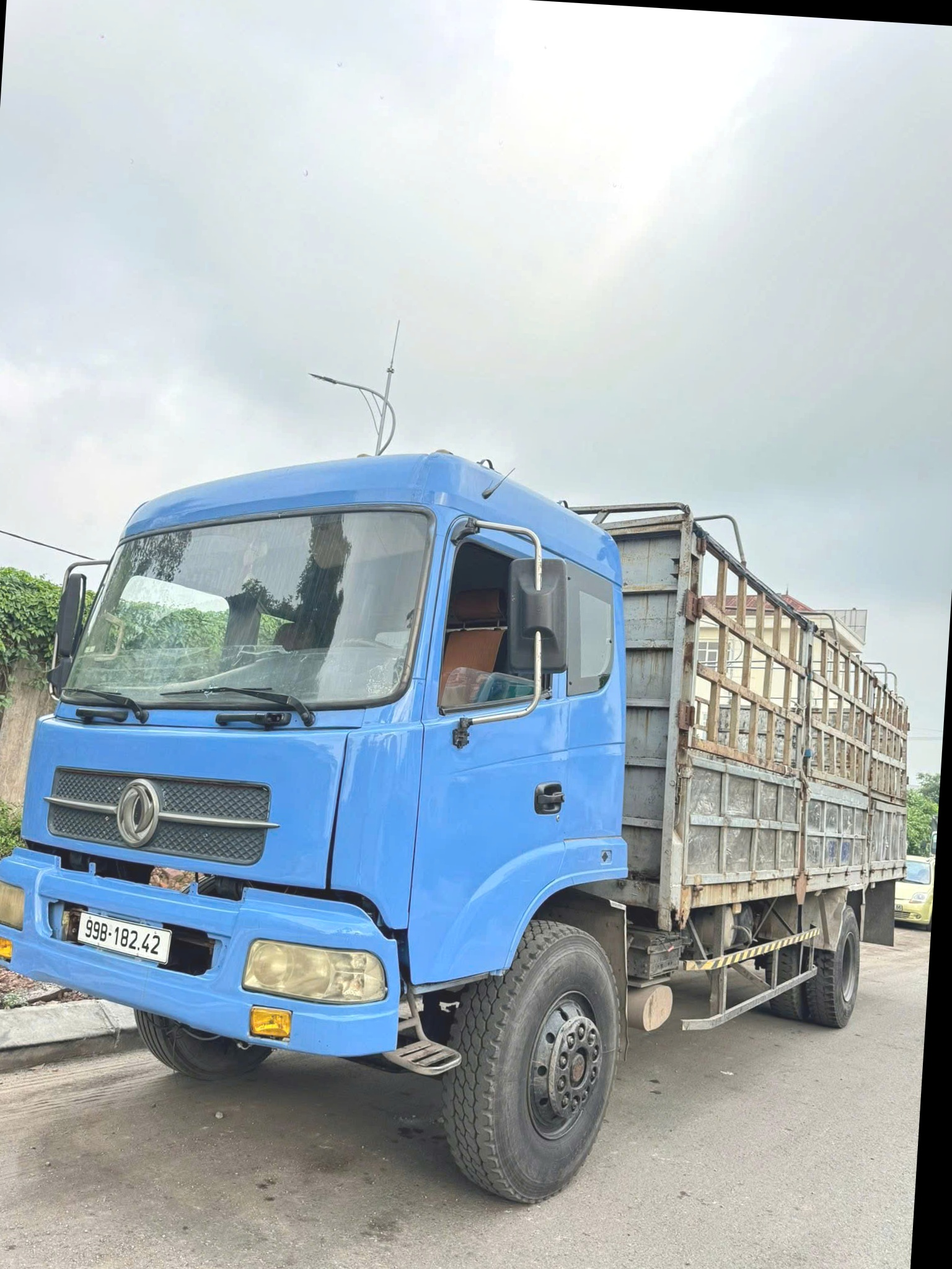Bien-so: (77, 911, 175, 968)
